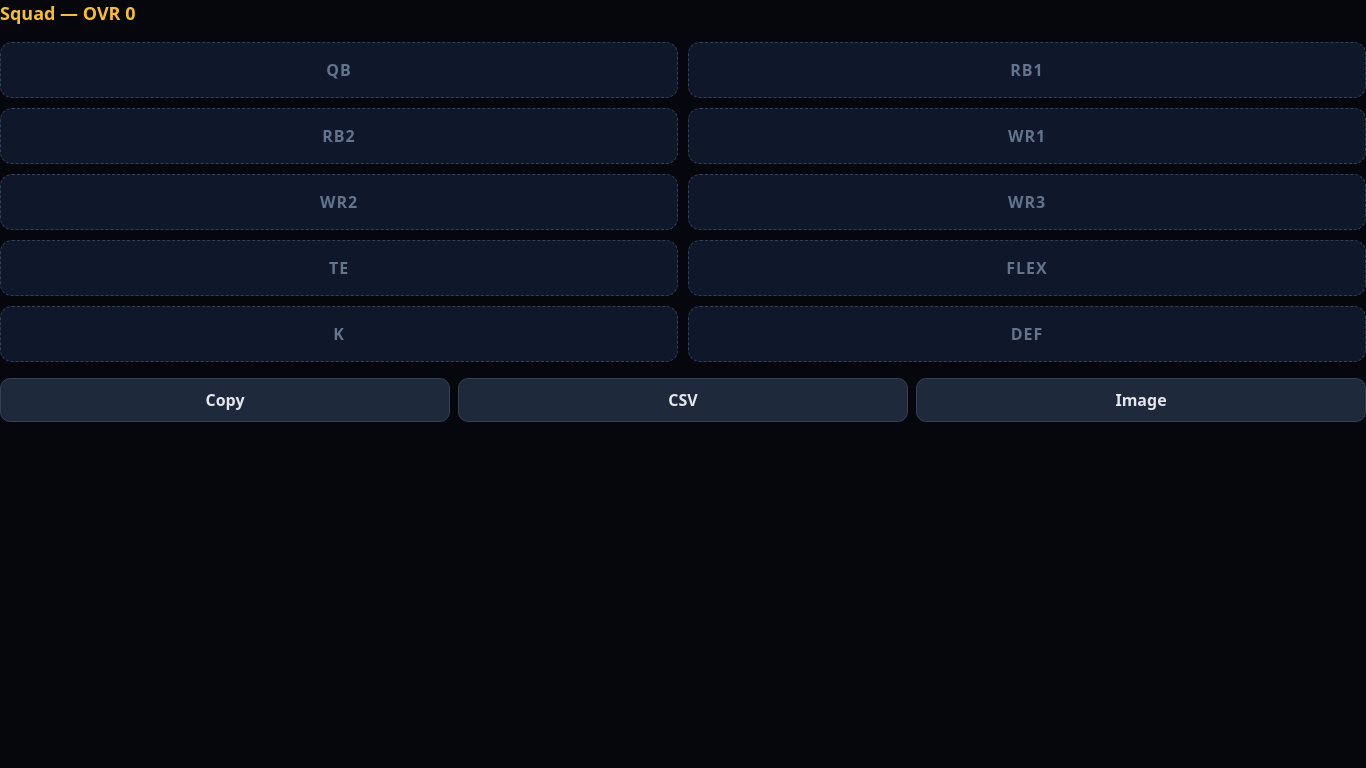
Test: Squad screen › slot tap opens picker filtered by canFill, sorted rating desc; pick assigns
Click the button with test id "slot-QB" at (339, 70), box x1=0 y1=42 x2=678 y2=98
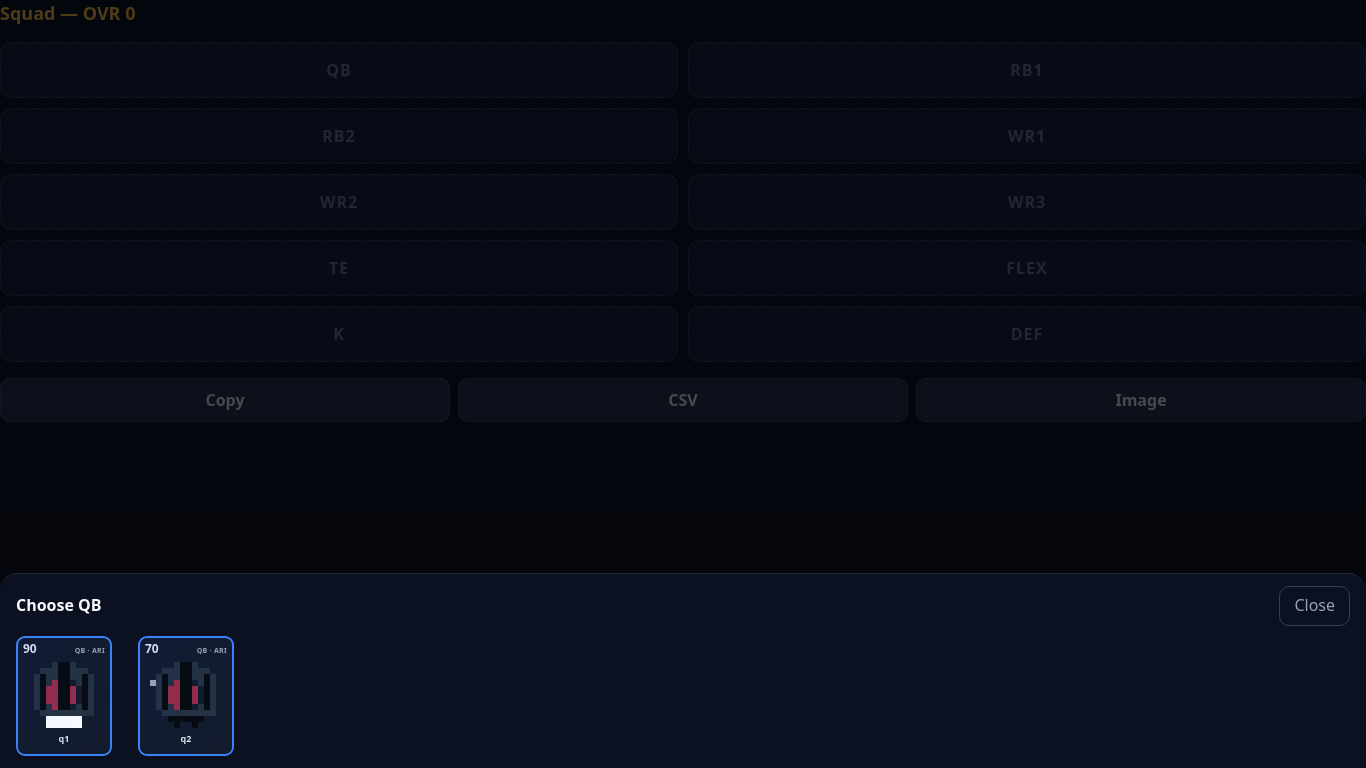
Expected: the button with test id "pick-q1" is shown
Expected: the button with test id "pick-q2" is shown, x1=138 y1=636 x2=252 y2=756
Click the button with test id "pick-q1" at (73, 696), box x1=16 y1=636 x2=130 y2=756
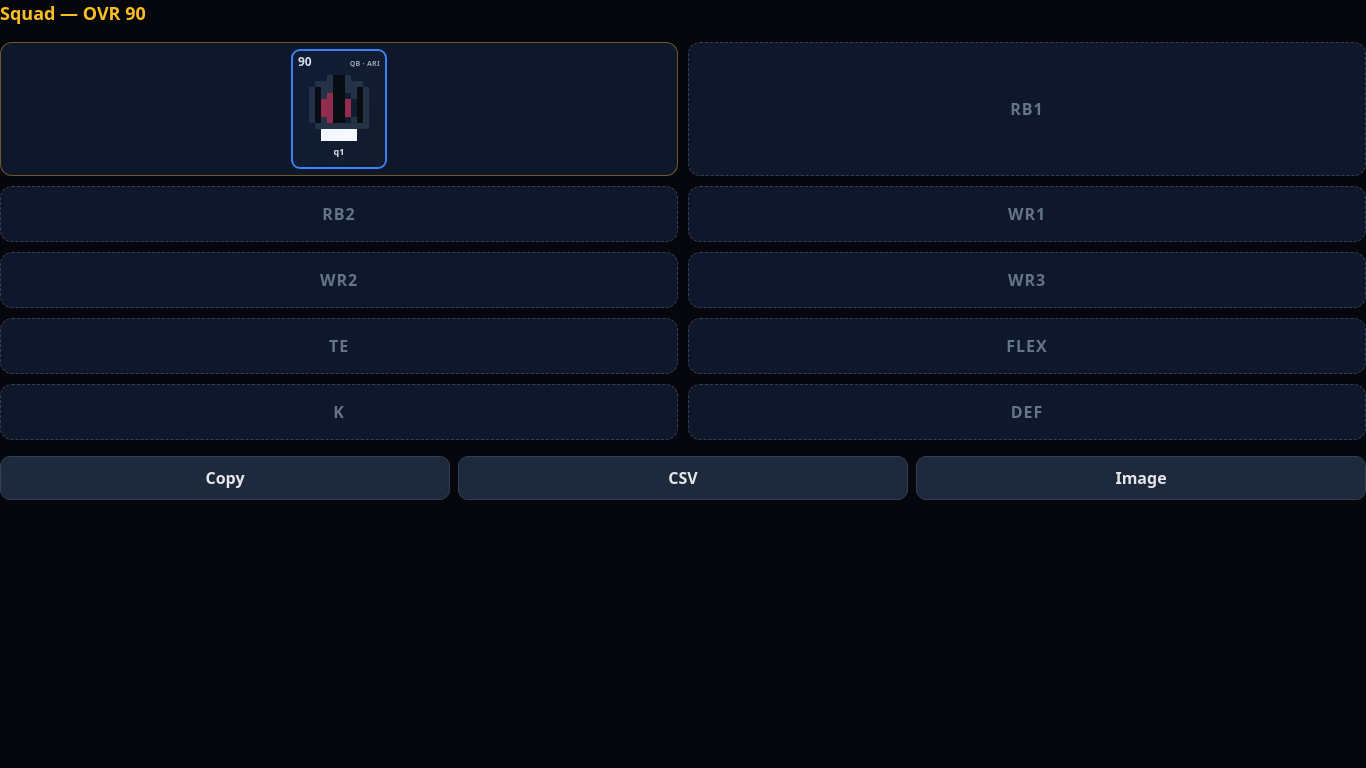
Expected: the button with test id "pick-q2" is gone
